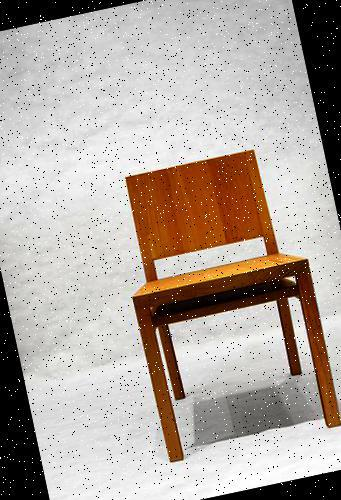Silla: (111, 141, 340, 468)
